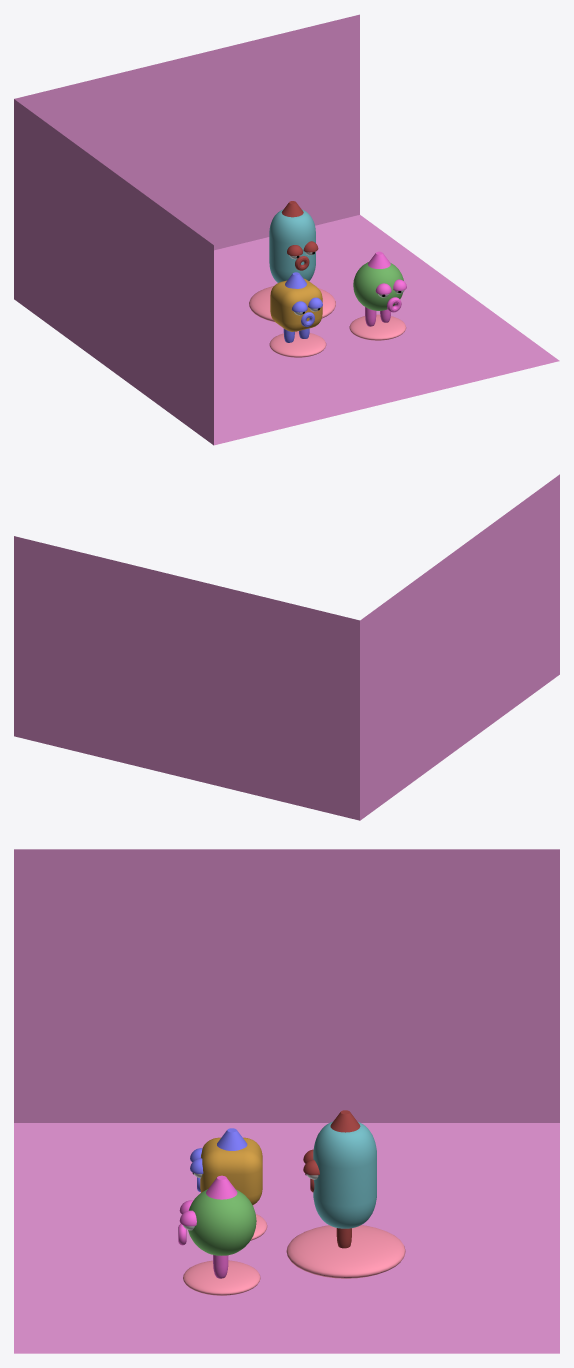
The picture shows the model from 3 angles, top to bottom: view 1: azimuth 30°, elevation 25°; view 2: azimuth 150°, elevation 25°; view 3: azimuth 270°, elevation 25°; orthographic projection. The views are drawn at different scales.
Visible parts, largest first — view 1: 平面, 柱体.002, Cube, 球体.006, 球体.020, 球体.021, 球体.019; view 2: 平面; view 3: 平面, 柱体.002, 球体.019, 球体.006, Cube, 球体.021.
Boxes of the visible parts, bbox=[...] form: 平面: bbox=[14, 14, 559, 445]; 柱体.002: bbox=[269, 209, 315, 282]; Cube: bbox=[270, 278, 322, 331]; 球体.006: bbox=[353, 262, 403, 310]; 球体.020: bbox=[269, 331, 326, 357]; 球体.021: bbox=[349, 314, 406, 340]; 球体.019: bbox=[249, 286, 335, 321]; 平面: bbox=[14, 474, 559, 820]; 平面: bbox=[14, 849, 559, 1353]; 柱体.002: bbox=[313, 1121, 376, 1228]; 球体.019: bbox=[286, 1225, 405, 1278]; 球体.006: bbox=[188, 1189, 256, 1255]; Cube: bbox=[200, 1137, 262, 1204]; 球体.021: bbox=[183, 1260, 260, 1295].
Size of the model in its own units: 41.78 by 23.57 by 41.78.
